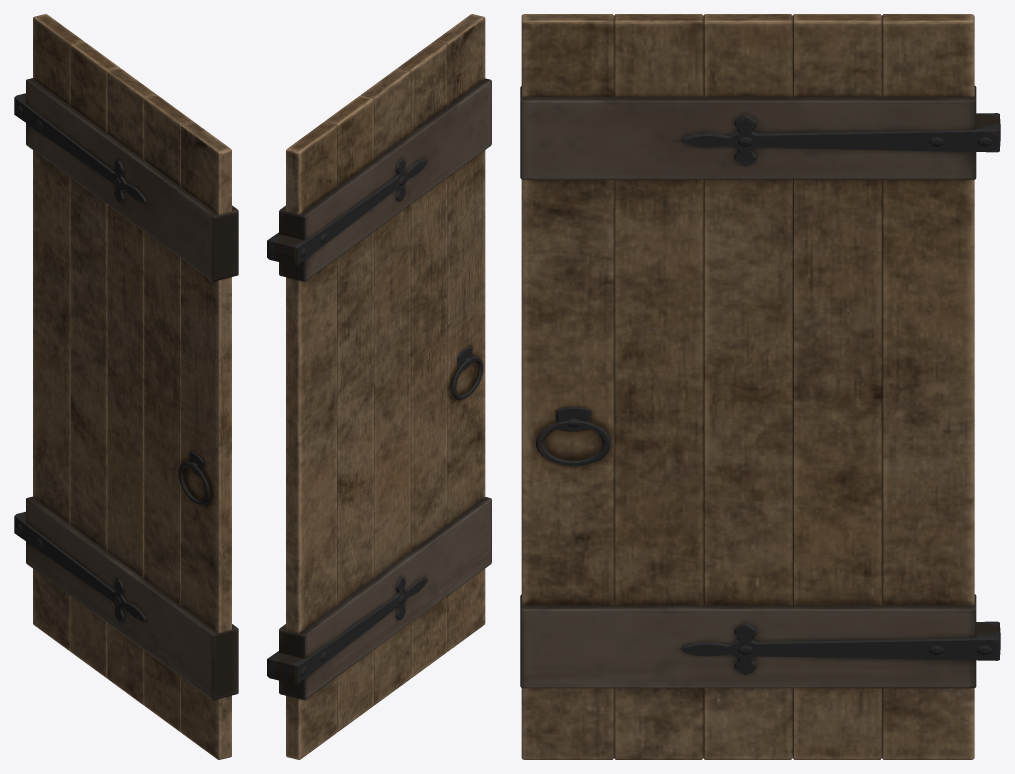
File: BW_Blacksmith01_ServiceDoor.fbx
3 renders of one model, left to right at view 1: azimuth 30°, elevation 25°; view 2: azimuth 150°, elevation 25°; view 3: azimuth 270°, elevation 25°, orthographic. The views are drawn at different scales.
Visible parts, largest first — view 1: BW_Blacksmith01_ServiceDoor; view 2: BW_Blacksmith01_ServiceDoor; view 3: BW_Blacksmith01_ServiceDoor.
Boxes of the visible parts, box(x1,y1,x2,y2) form: BW_Blacksmith01_ServiceDoor: box(14, 14, 238, 759); BW_Blacksmith01_ServiceDoor: box(267, 14, 491, 759); BW_Blacksmith01_ServiceDoor: box(520, 14, 1000, 759).
Bounding box in the file's own units: 0.1318 × 2.25 × 1.32.
